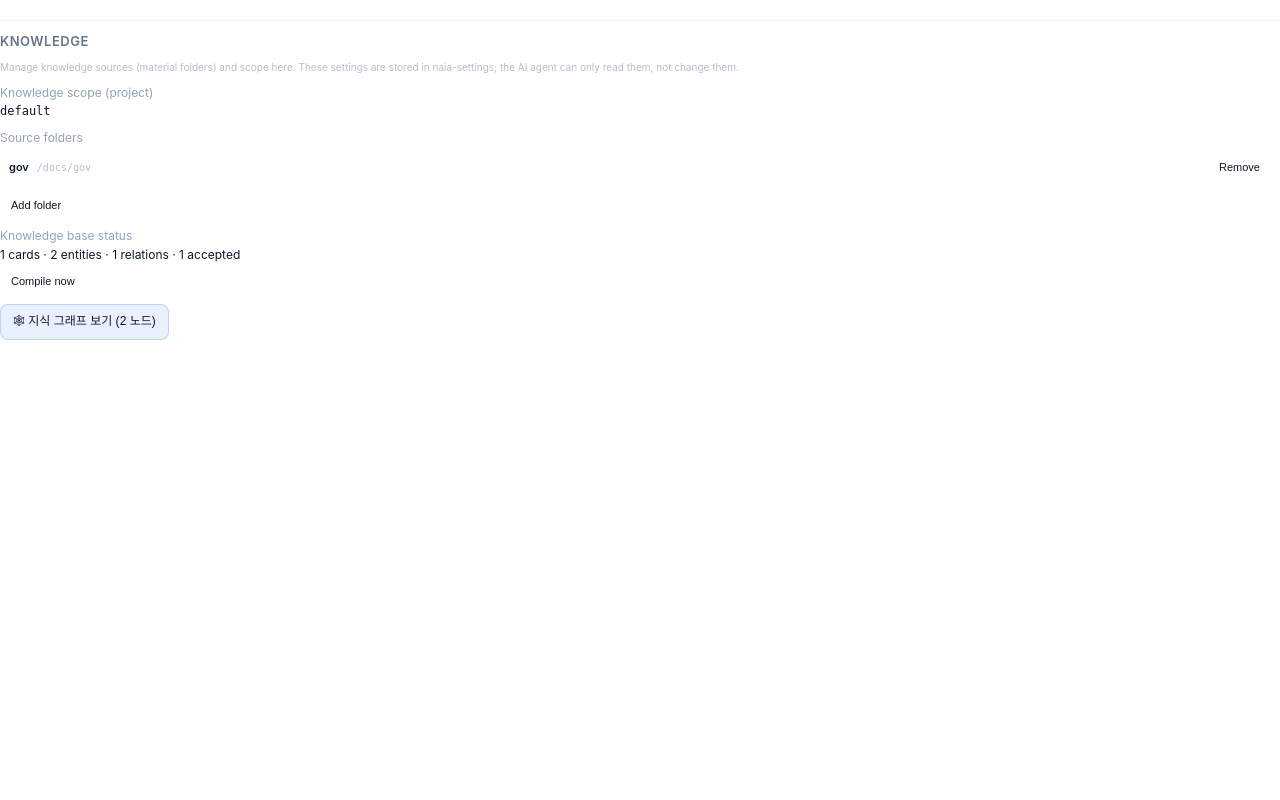
Test case: KnowledgeSettingsTab (FR-KB-OS.5~8 — 설정 지식 탭 관리) › 컴파일된 kb(엔티티 있음) → '그래프 보기' 버튼 + 클릭 시 오버레이 열림
Step 1. Click the button with test id "knowledge-graph-open" → (84, 322), box [0,304,169,340]
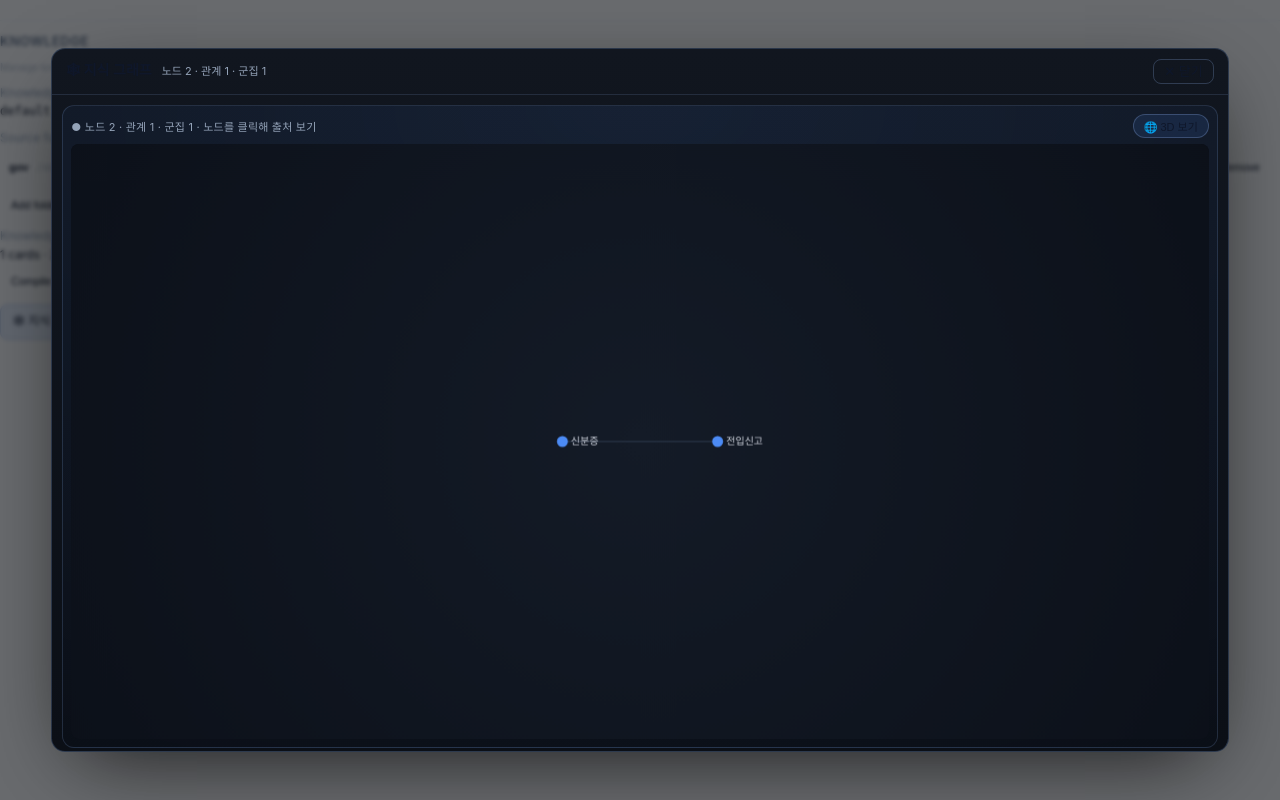
Now the element with test id "knowledge-graph-overlay" is shown
Step 2. Click the button with test id "knowledge-graph-close" → (1184, 72), box [1153,59,1214,84]
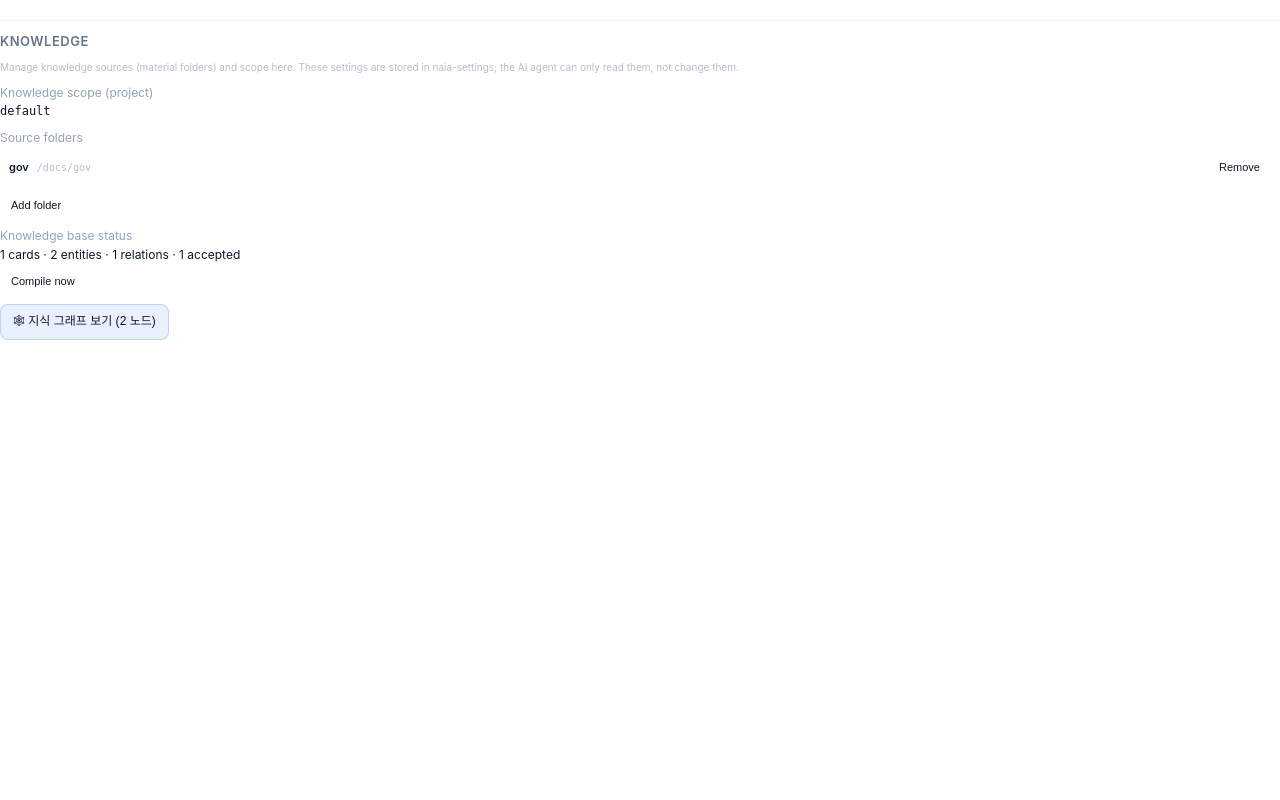
Now the element with test id "knowledge-graph-overlay" is gone
